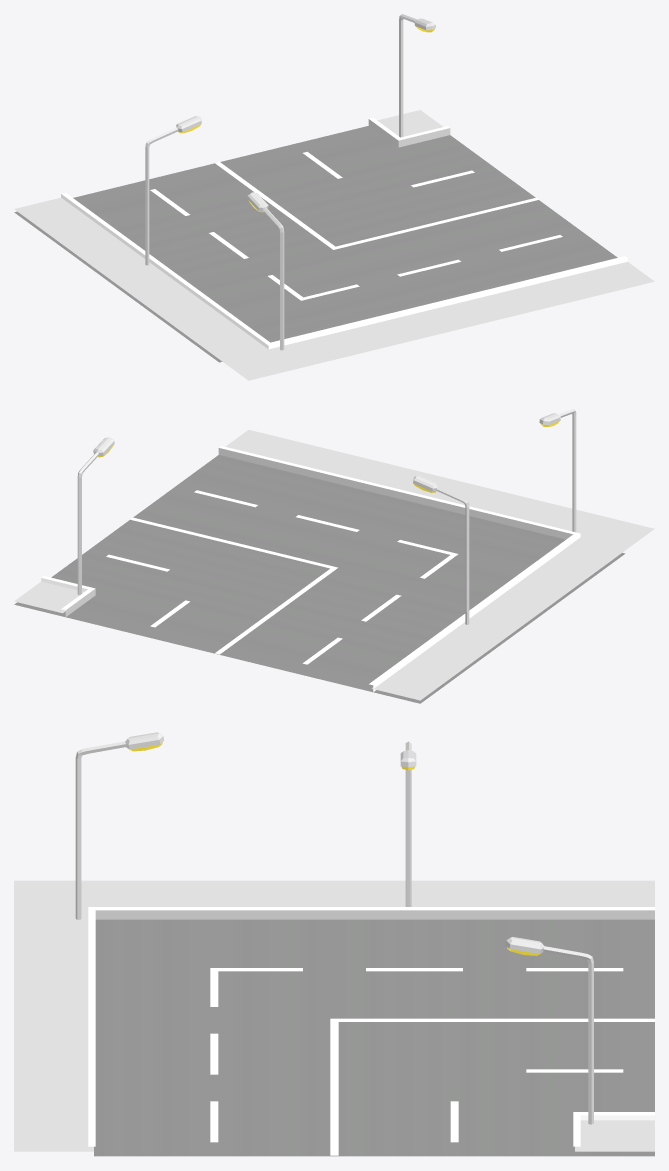
The model's file is road_tile_2x2_4_L.glb.
The picture shows the model from 3 angles, top to bottom: view 1: azimuth 30°, elevation 25°; view 2: azimuth 150°, elevation 25°; view 3: azimuth 270°, elevation 25°; orthographic projection. The views are drawn at different scales.
Visible parts, largest first — view 1: road_tile_2x2_4; view 2: road_tile_2x2_4; view 3: road_tile_2x2_4.
Part boxes in pixels (box(x1,y1,x2,y2)): road_tile_2x2_4: box(14, 14, 654, 380); road_tile_2x2_4: box(14, 409, 654, 703); road_tile_2x2_4: box(14, 732, 654, 1156).
Bounding box in the file's own units: 16 × 5.25 × 16.
Materials: 1 (1 with a texture image).
